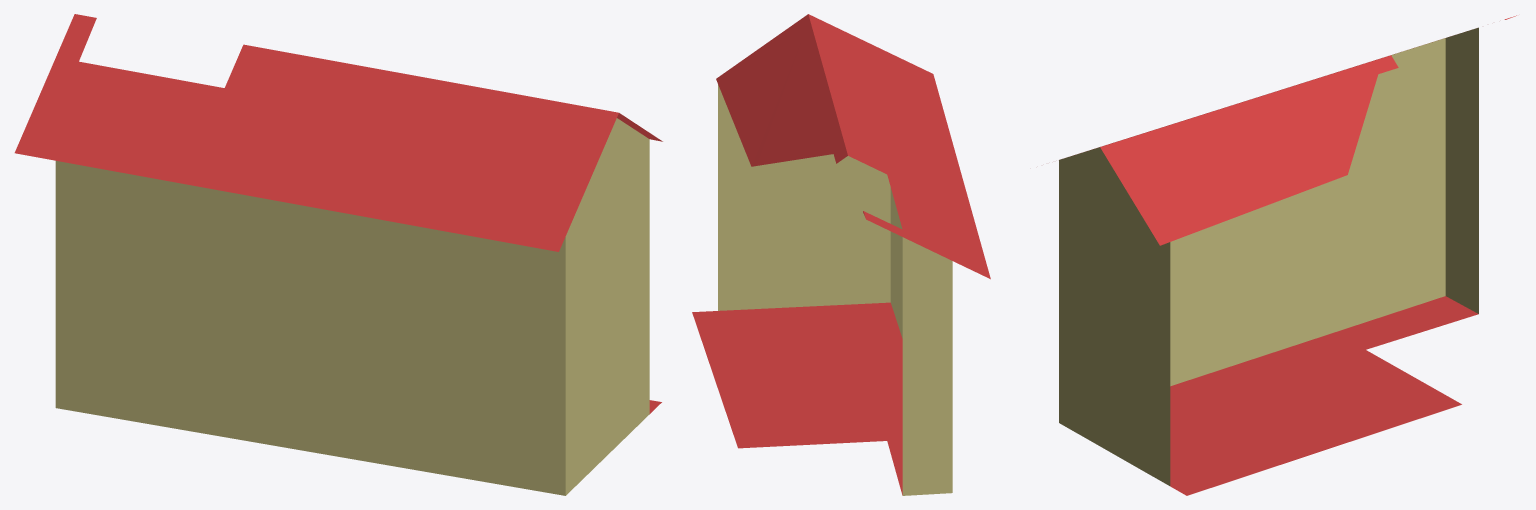
3 renders of one model, left to right at view 1: azimuth 30°, elevation 25°; view 2: azimuth 150°, elevation 25°; view 3: azimuth 270°, elevation 25°, orthographic. The views are drawn at different scales.
Size of the model in its own units: 10.21 by 9.91 by 6.72.
